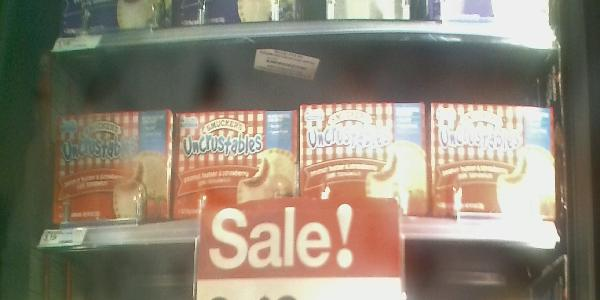icecream: (173, 107, 300, 234), (429, 98, 557, 220), (300, 103, 432, 220), (51, 108, 174, 221)
